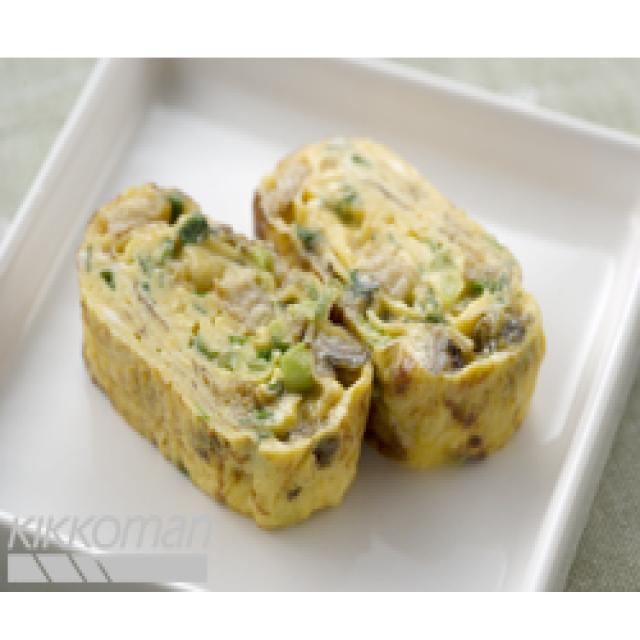鸡蛋料理: (71, 122, 542, 531)
